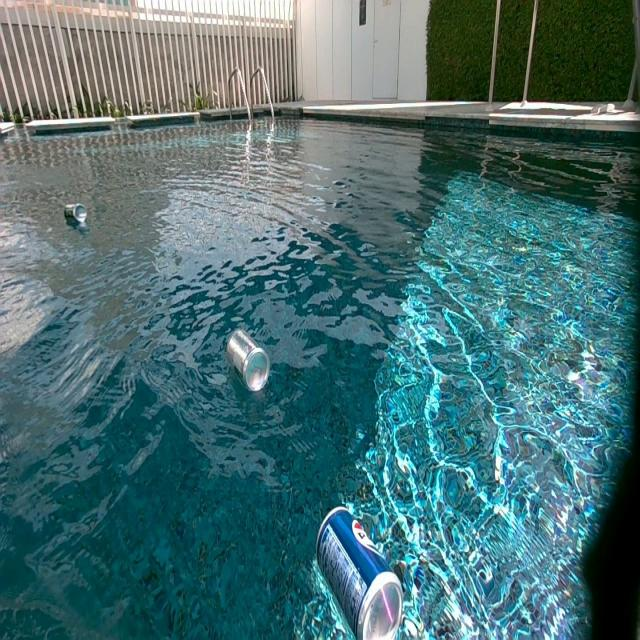Cans: (314, 506, 407, 639), (227, 328, 271, 393), (64, 204, 86, 225)
